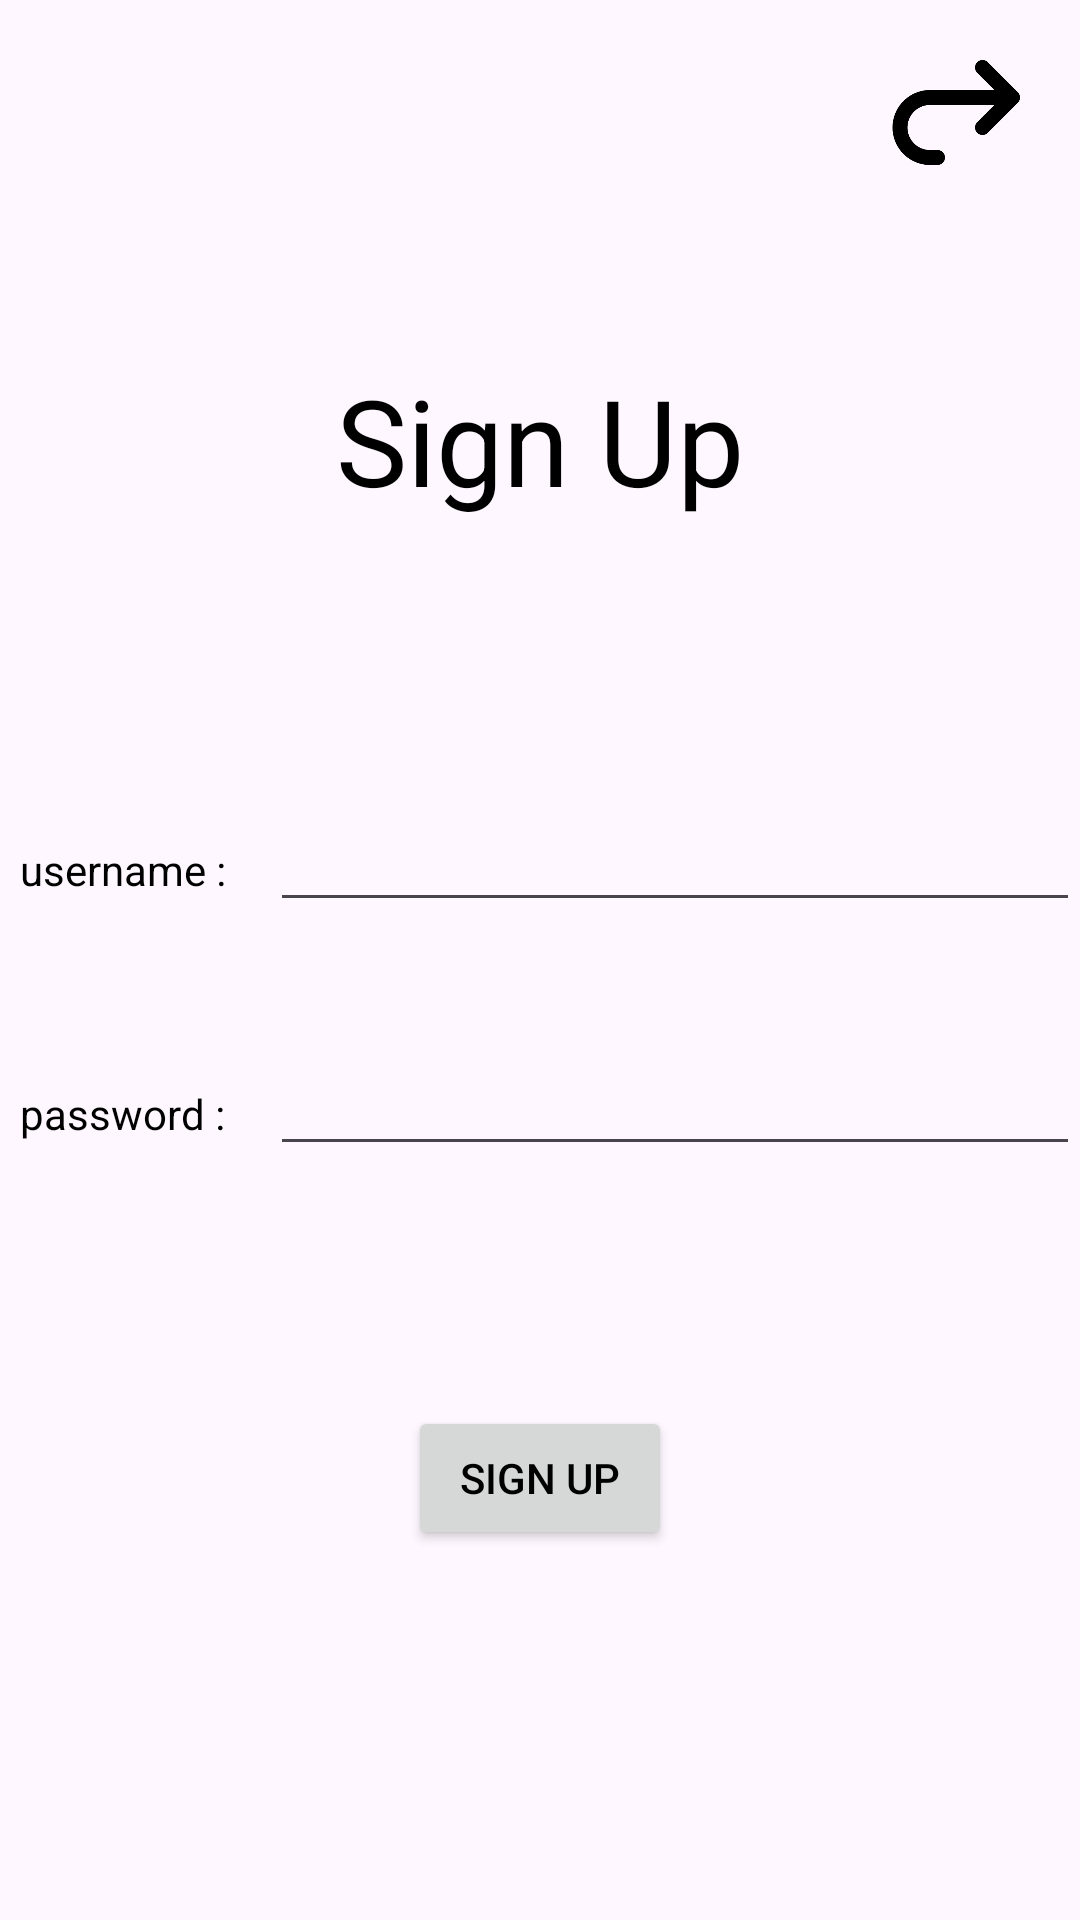

Icon bounding boxes for this 1080px×1920px phone screenshot, format (x1, y1, x2, y2):
return: (892, 60, 1020, 165)
